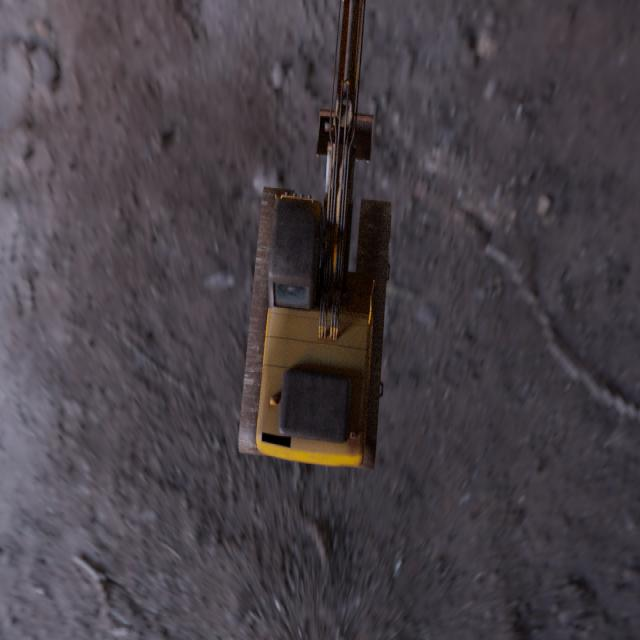excavator: (238, 0, 392, 471)
